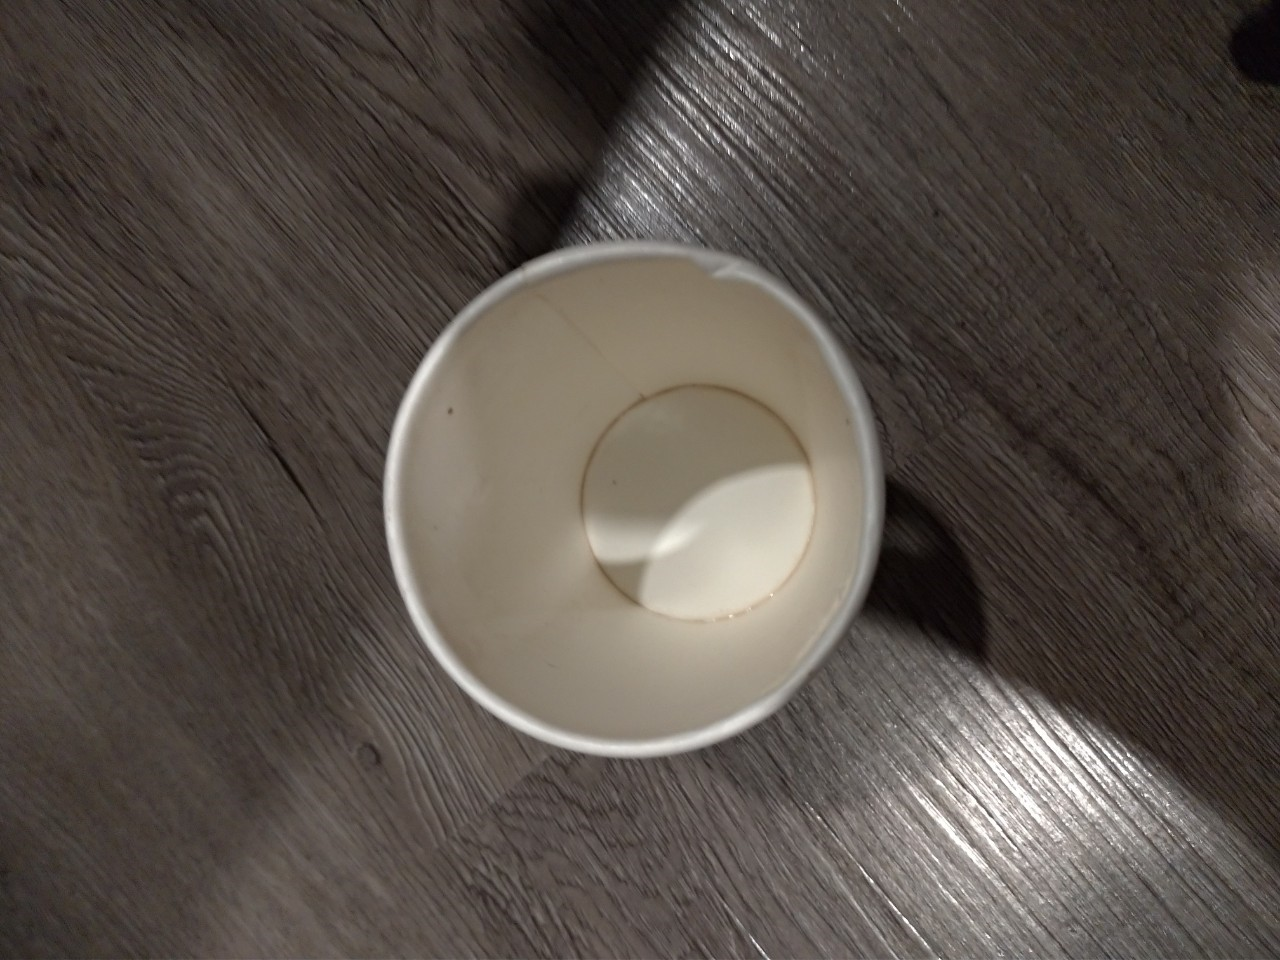PaperCup: (377, 237, 885, 761)
